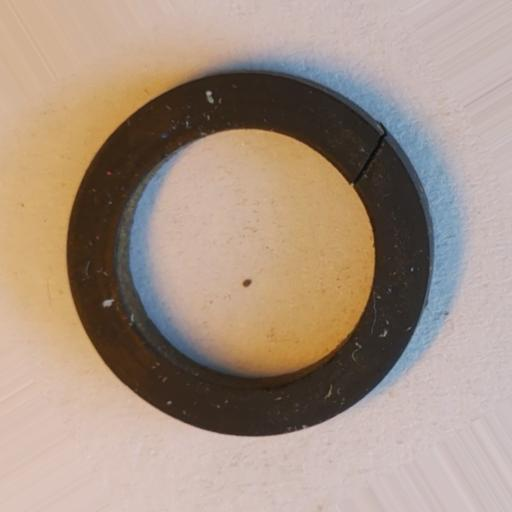defect: (349, 128, 386, 188)
